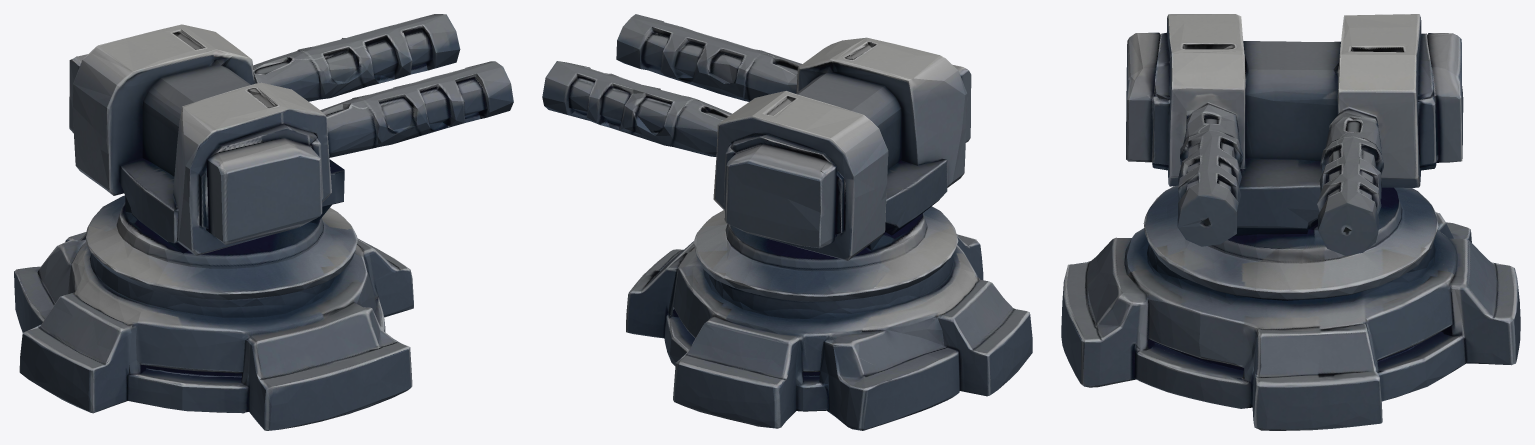
Rendered from MachineGun.glb.
3 renders of one model, left to right at view 1: azimuth 30°, elevation 25°; view 2: azimuth 150°, elevation 25°; view 3: azimuth 270°, elevation 25°, orthographic. The views are drawn at different scales.
Visible parts, largest first — view 1: tripo_node_787d1d90-146c-4090-9e61-e51a098c4b54; view 2: tripo_node_787d1d90-146c-4090-9e61-e51a098c4b54; view 3: tripo_node_787d1d90-146c-4090-9e61-e51a098c4b54.
Boxes of the visible parts, box(x1,y1,x2,y2) form: tripo_node_787d1d90-146c-4090-9e61-e51a098c4b54: box(14, 14, 513, 430); tripo_node_787d1d90-146c-4090-9e61-e51a098c4b54: box(542, 14, 1032, 430); tripo_node_787d1d90-146c-4090-9e61-e51a098c4b54: box(1061, 14, 1520, 430).
Bounding box in the file's own units: 0.9788 × 0.5854 × 0.8237.
1 material, 1 textured.
